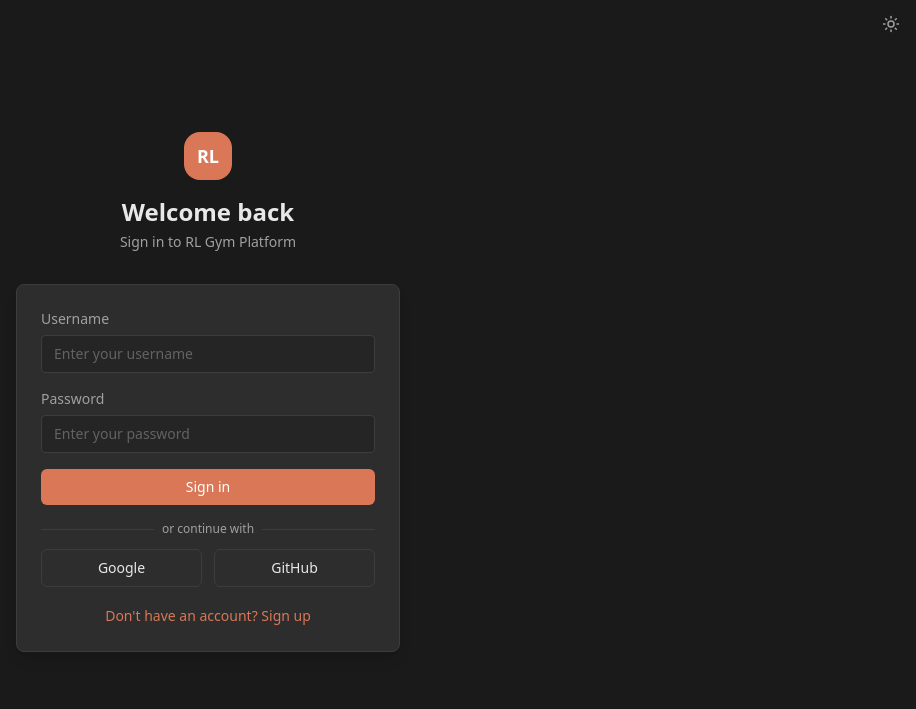
Login page › shows email field after switching to register mode
This screenshot has width=916, height=709.
Click the button "Don't have an account? Sign up".
click(208, 616)  # box [105,606,311,626]
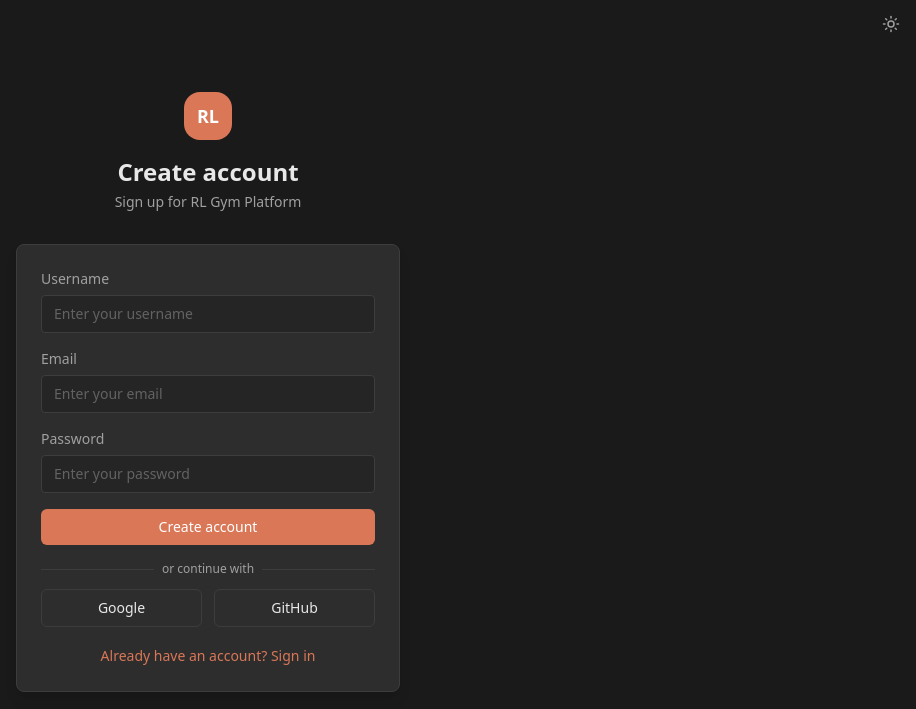
Now the field with placeholder "Enter your email" is shown, box [41,375,375,413]
